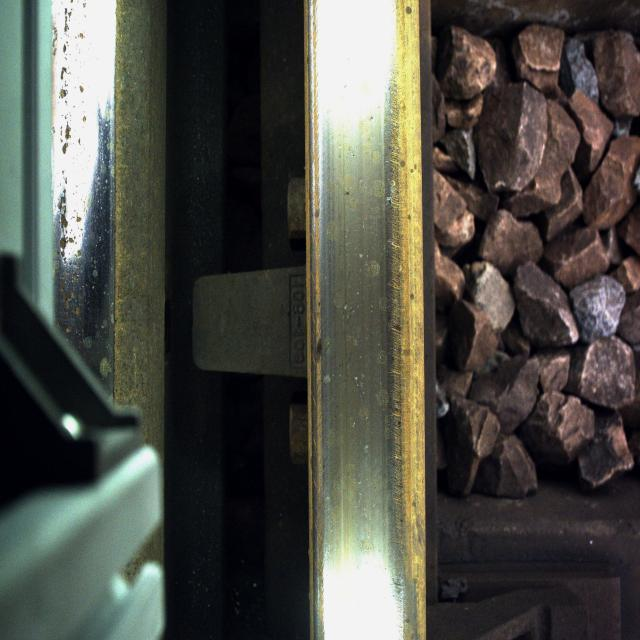normal: (316, 28, 404, 562)
scar: (47, 0, 95, 329)
